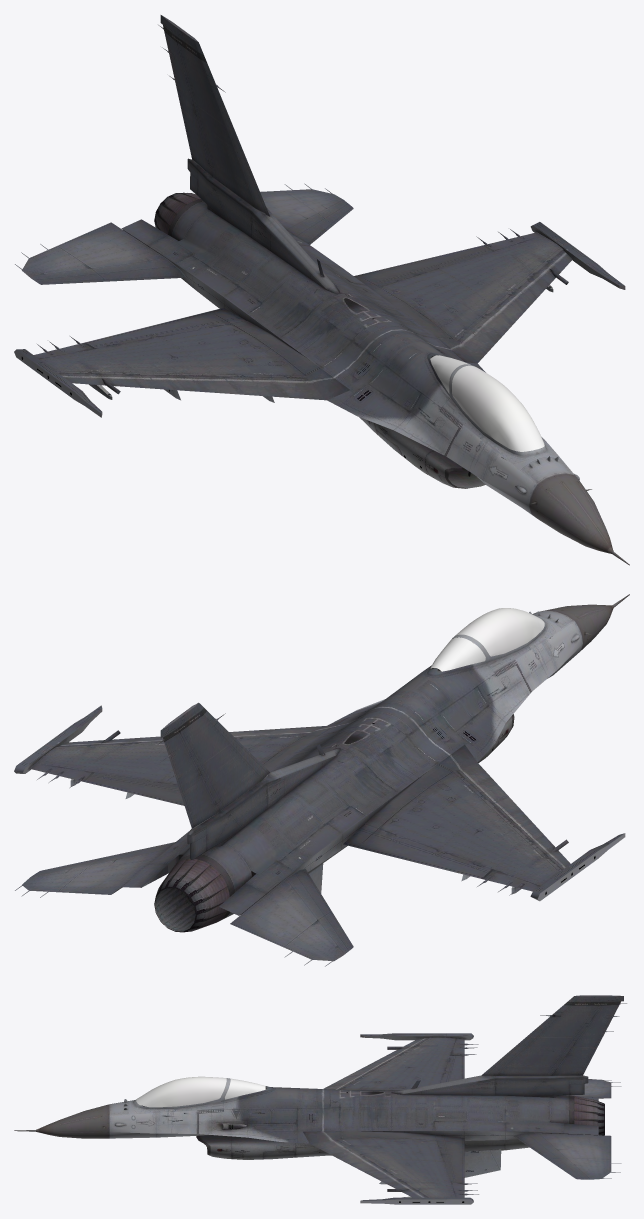
3 views of the same model, one above another, from view 1: azimuth 30°, elevation 25°; view 2: azimuth 150°, elevation 25°; view 3: azimuth 270°, elevation 25° (orthographic). The views are drawn at different scales.
Parts seen in each view (by area): view 1: LOD0, ElevatorR01, Glass_Canopy01, VoletR01, VoletL01, ElevatorL01, AileronR01, AileronL01, RudderL01, Canopy01, EngineL01; view 2: LOD0, ElevatorR01, EngineL01, ElevatorL01, AileronR01, Glass_Canopy01, VoletR01, RudderL01, AileronL01, VoletL01, Glass01, Canopy01 (+2 smaller); view 3: LOD0, ElevatorL01, Glass_Canopy01, RudderL01, VoletL01, AileronL01, EngineL01, VoletR01, Canopy01, ElevatorR01, AileronR01, Glass01 (+1 smaller).
Part boxes in pixels (x1,y1,x2,y2): LOD0: [14, 15, 629, 565]; ElevatorR01: [15, 222, 186, 284]; Glass_Canopy01: [452, 365, 544, 451]; VoletR01: [58, 373, 326, 400]; VoletL01: [456, 250, 572, 363]; ElevatorL01: [260, 183, 353, 244]; AileronR01: [84, 308, 246, 348]; AileronL01: [354, 245, 493, 289]; RudderL01: [158, 25, 210, 175]; Canopy01: [438, 364, 557, 465]; EngineL01: [154, 192, 200, 234]; LOD0: [14, 594, 629, 921]; ElevatorR01: [230, 868, 353, 966]; EngineL01: [154, 859, 229, 932]; ElevatorL01: [15, 842, 175, 897]; AileronR01: [343, 824, 493, 879]; Glass_Canopy01: [455, 608, 544, 656]; VoletR01: [457, 762, 570, 869]; RudderL01: [158, 729, 218, 829]; AileronL01: [83, 772, 184, 805]; VoletL01: [58, 726, 325, 746]; Glass01: [430, 637, 485, 671]; Canopy01: [453, 617, 557, 672]; LOD0: [14, 995, 623, 1204]; ElevatorL01: [513, 1133, 621, 1179]; Glass_Canopy01: [136, 1076, 226, 1107]; RudderL01: [553, 1001, 626, 1075]; VoletL01: [310, 1139, 428, 1197]; AileronL01: [434, 1135, 464, 1182]; EngineL01: [574, 1096, 604, 1135]; VoletR01: [323, 1038, 428, 1089]; Canopy01: [130, 1078, 234, 1113]; ElevatorR01: [570, 1079, 621, 1098]; AileronR01: [440, 1055, 464, 1082]; Glass01: [225, 1078, 265, 1099].
Bounding box in the file's own units: 9.56 × 4.63 × 14.98.
